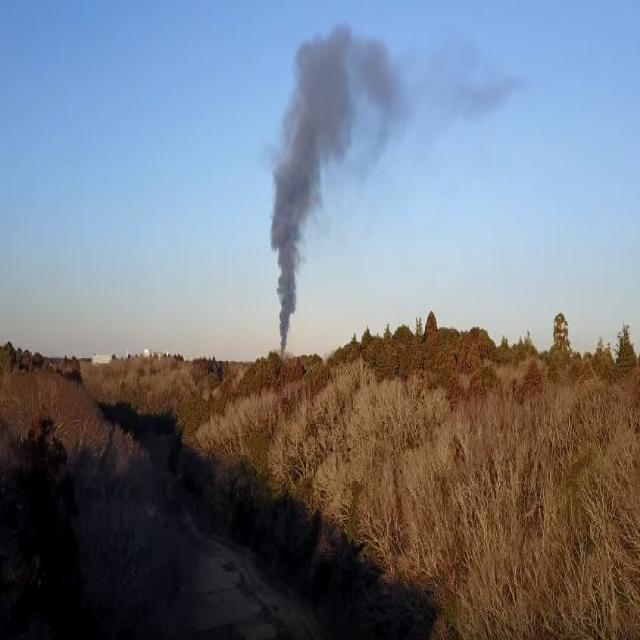smoke: (267, 22, 360, 340)
